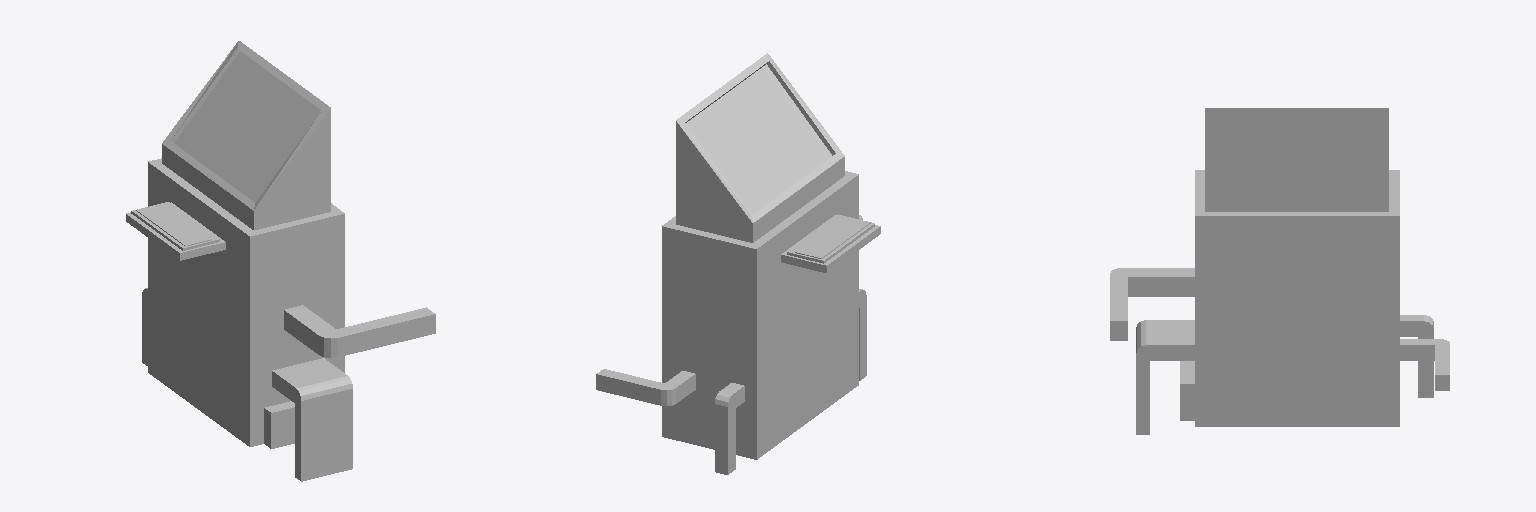
Rendered from computer.obj.
3 views of the same model, side by side, from view 1: azimuth 30°, elevation 25°; view 2: azimuth 150°, elevation 25°; view 3: azimuth 270°, elevation 25° (orthographic).
Parts seen in each view (by area): view 1: Cube, Screen; view 2: Cube, Screen; view 3: Cube.
Part boxes in pixels (left/top/right/bottom): Cube: left=126, top=41, right=435, bottom=481; Screen: left=174, top=52, right=320, bottom=202; Cube: left=596, top=53, right=880, bottom=474; Screen: left=685, top=64, right=831, bottom=214; Cube: left=1110, top=108, right=1449, bottom=434.
Size of the model in its own units: 0.7499 by 1.26 by 1.17.